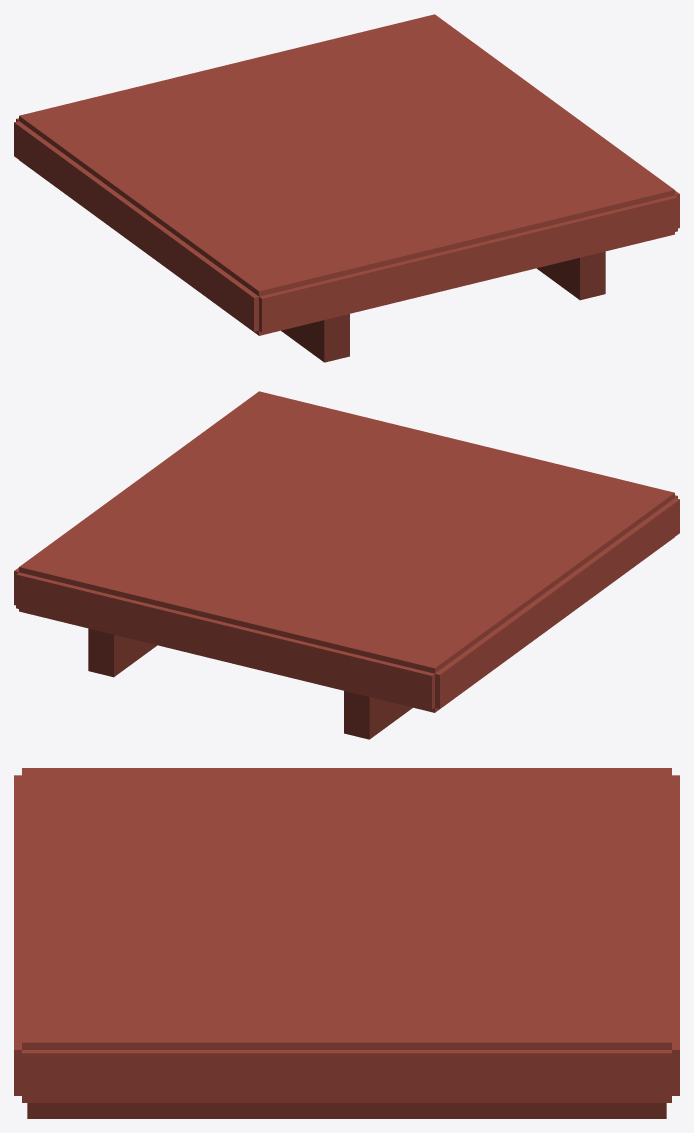
File: rich_mahogany_platform_v0.glb
3 views of the same model, one above another, from view 1: azimuth 30°, elevation 25°; view 2: azimuth 150°, elevation 25°; view 3: azimuth 270°, elevation 25° (orthographic). The views are drawn at different scales.
Visible parts, largest first — view 1: rich_mahogany_platform_v0; view 2: rich_mahogany_platform_v0; view 3: rich_mahogany_platform_v0.
Part boxes in pixels (x1,y1,x2,y2): rich_mahogany_platform_v0: [14, 14, 679, 362]; rich_mahogany_platform_v0: [14, 391, 679, 739]; rich_mahogany_platform_v0: [14, 768, 679, 1118].
Size of the model in its own units: 1 by 0.2 by 1.
